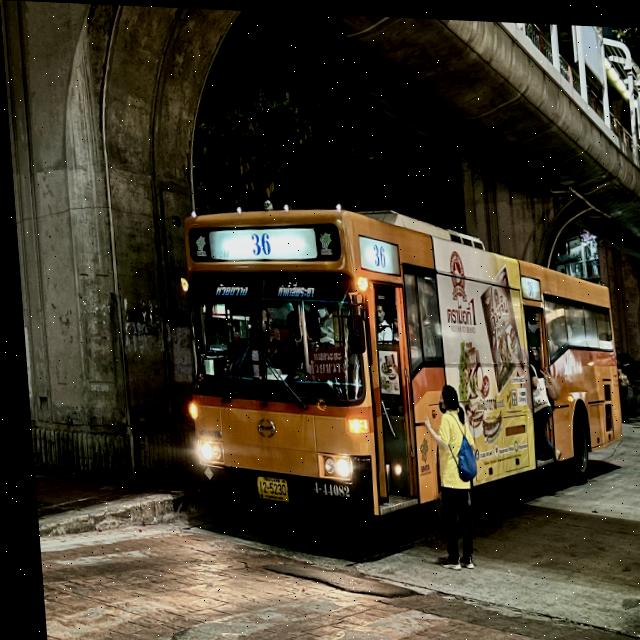BMTA-bus: (157, 183, 633, 539)
Bus-Line-Number: (239, 225, 276, 259), (364, 234, 387, 268)
Destination-Sign-Extra-Bus: (300, 343, 344, 381)
